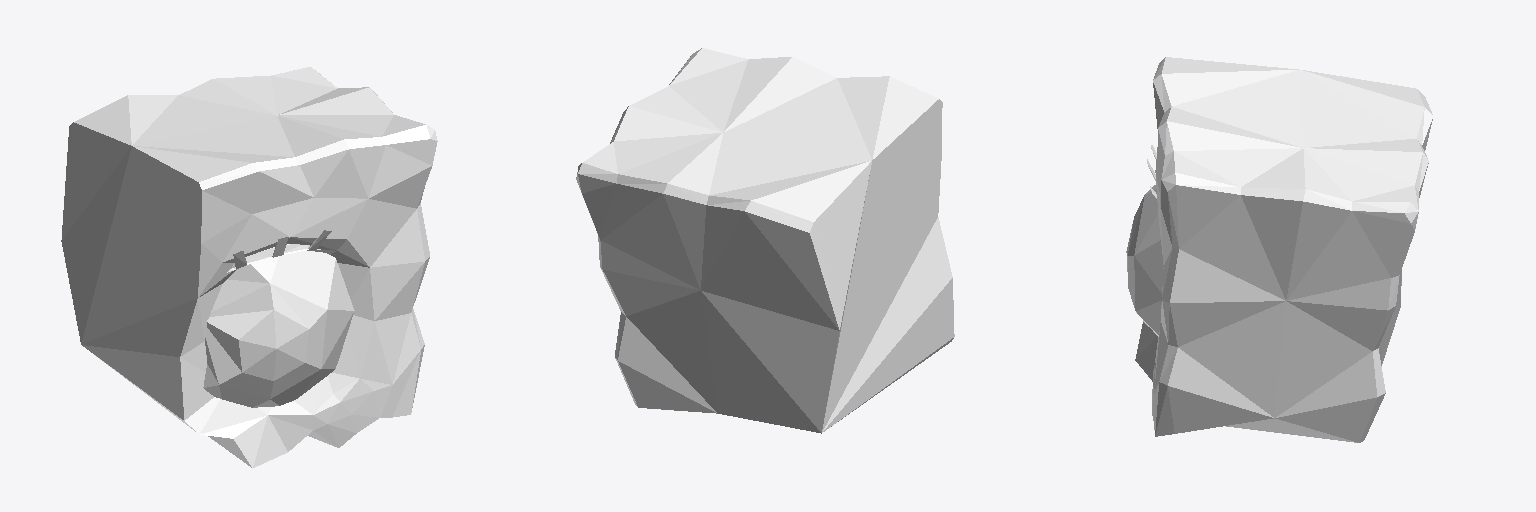
Rendered from eye1.obj.
3 views of the same model, side by side, from view 1: azimuth 30°, elevation 25°; view 2: azimuth 150°, elevation 25°; view 3: azimuth 270°, elevation 25° (orthographic).
Parts seen in each view (by area): view 1: mesh0054; view 2: mesh0054; view 3: mesh0054.
Part boxes in pixels (left/top/right/bottom): mesh0054: left=61, top=67, right=437, bottom=467; mesh0054: left=576, top=48, right=954, bottom=433; mesh0054: left=1126, top=57, right=1432, bottom=442.
Bounding box in the file's own units: 1.07 × 1.16 × 1.07.